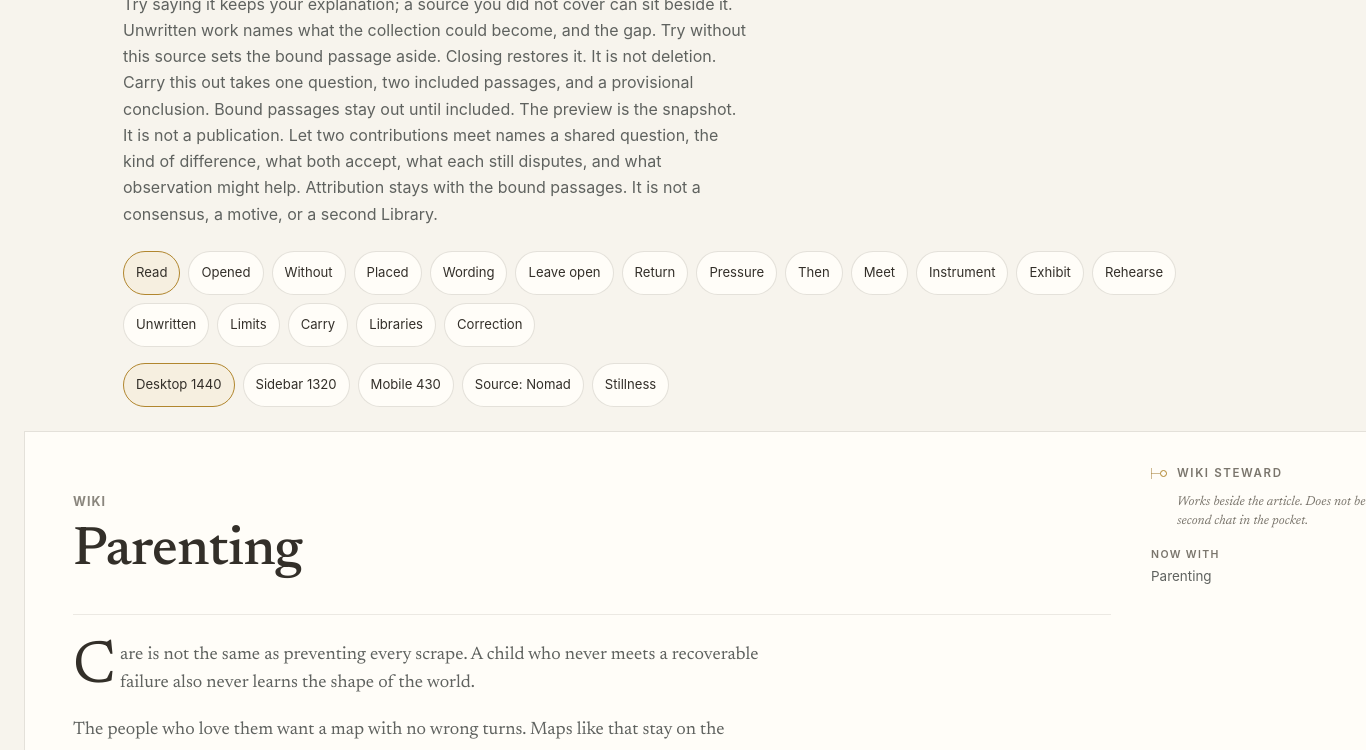
Test: OpenSentenceStoryboard › lets the companion become a drawer at mobile width
This screenshot has width=1366, height=750.
(page scrolled)
Step 1. Click the button "Mobile 430" → (406, 385), box [358,363,454,407]
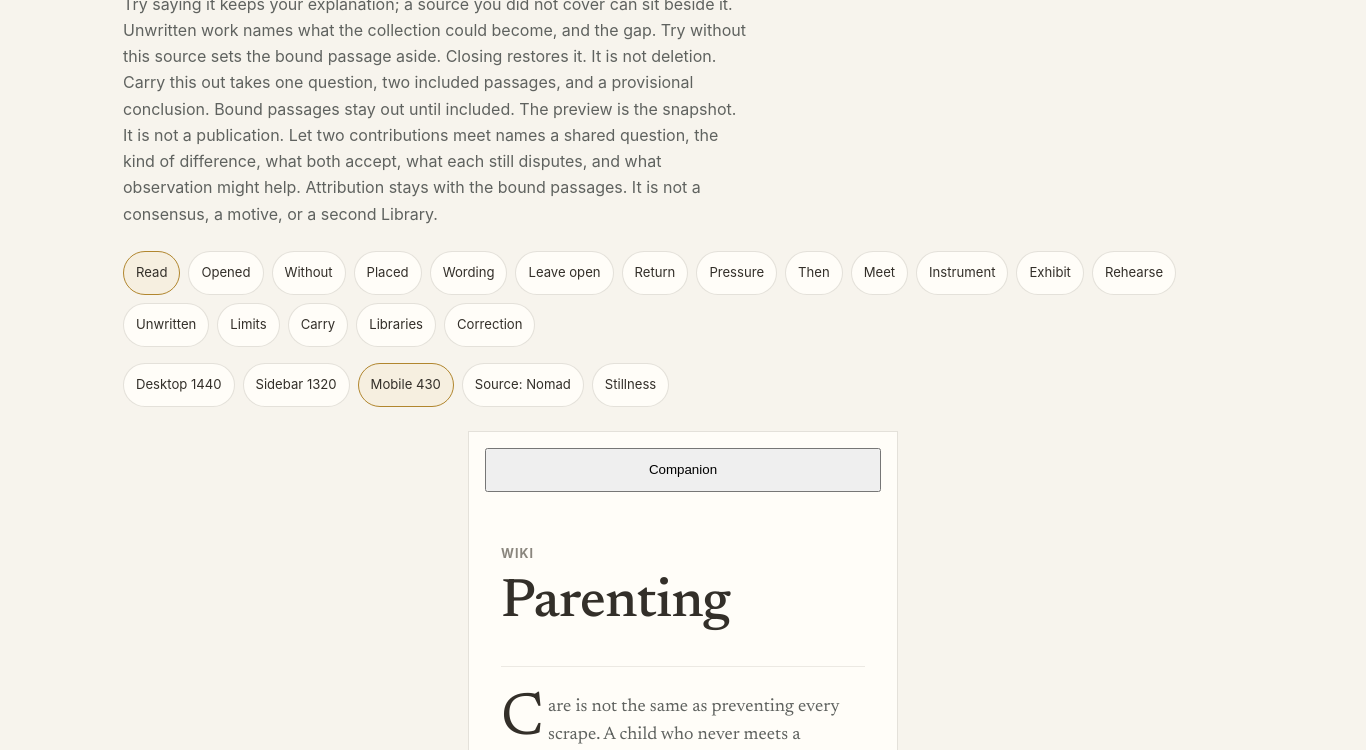
Check: the button "Companion" is shown, box [485,448,881,492]
